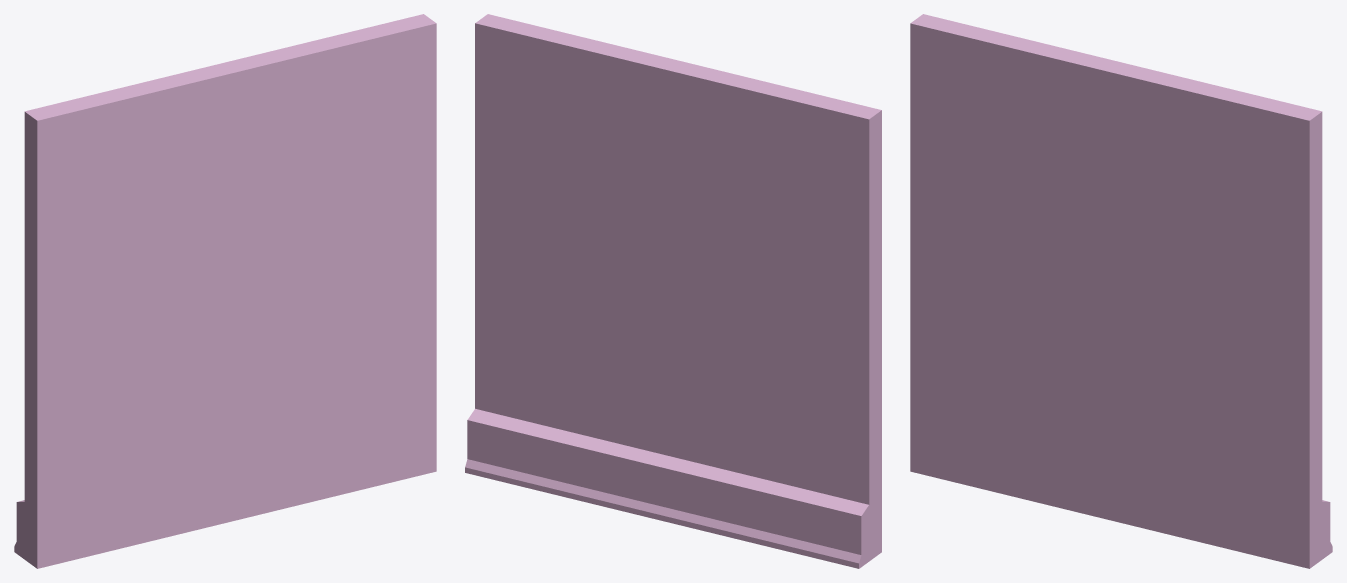
The model's file is Wall_Half.fbx.
3 renders of one model, left to right at view 1: azimuth 30°, elevation 25°; view 2: azimuth 150°, elevation 25°; view 3: azimuth 330°, elevation 25°, orthographic.
Visible parts, largest first — view 1: Half Wall; view 2: Half Wall; view 3: Half Wall.
Boxes of the visible parts, box(x1,y1,x2,y2) form: Half Wall: box(14, 14, 436, 568); Half Wall: box(465, 14, 881, 568); Half Wall: box(910, 14, 1332, 568).
Bounding box in the file's own units: 10 × 10.72 × 1.
